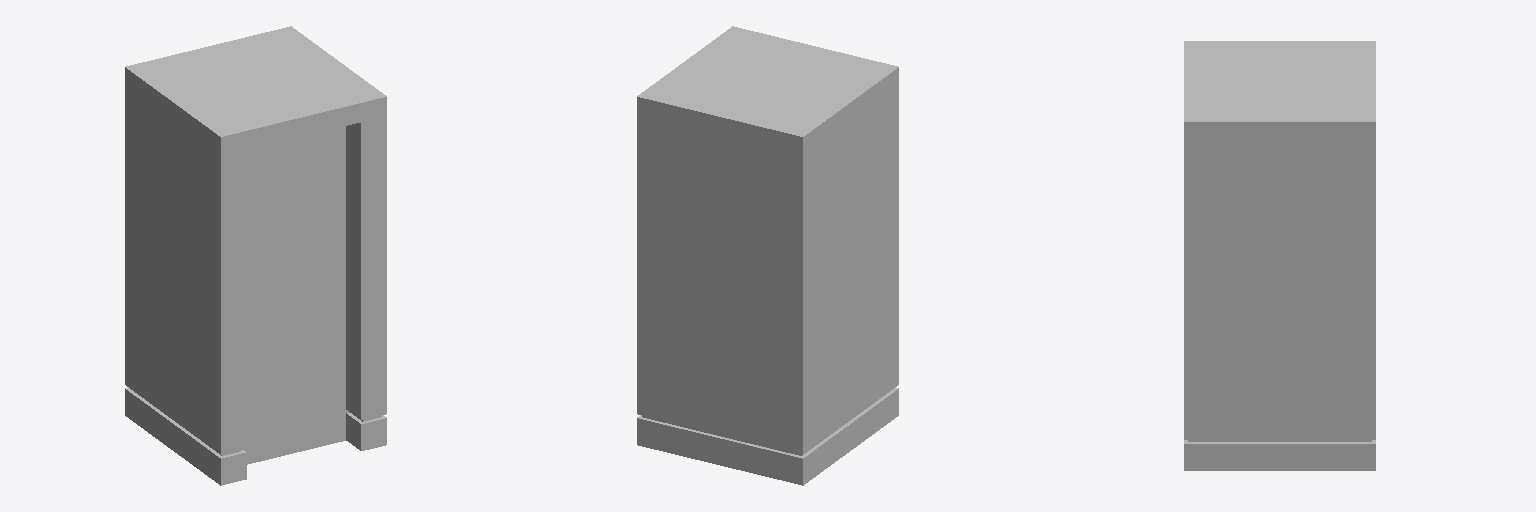
The model's file is door.obj.
3 renders of one model, left to right at view 1: azimuth 30°, elevation 25°; view 2: azimuth 150°, elevation 25°; view 3: azimuth 270°, elevation 25°, orthographic.
Visible parts, largest first — view 1: door; view 2: door; view 3: door.
Boxes of the visible parts, x1,y1,x2,y2 form: door: [125, 26, 386, 485]; door: [637, 26, 898, 485]; door: [1184, 41, 1375, 470].
Size of the model in its own units: 45 by 90 by 45.